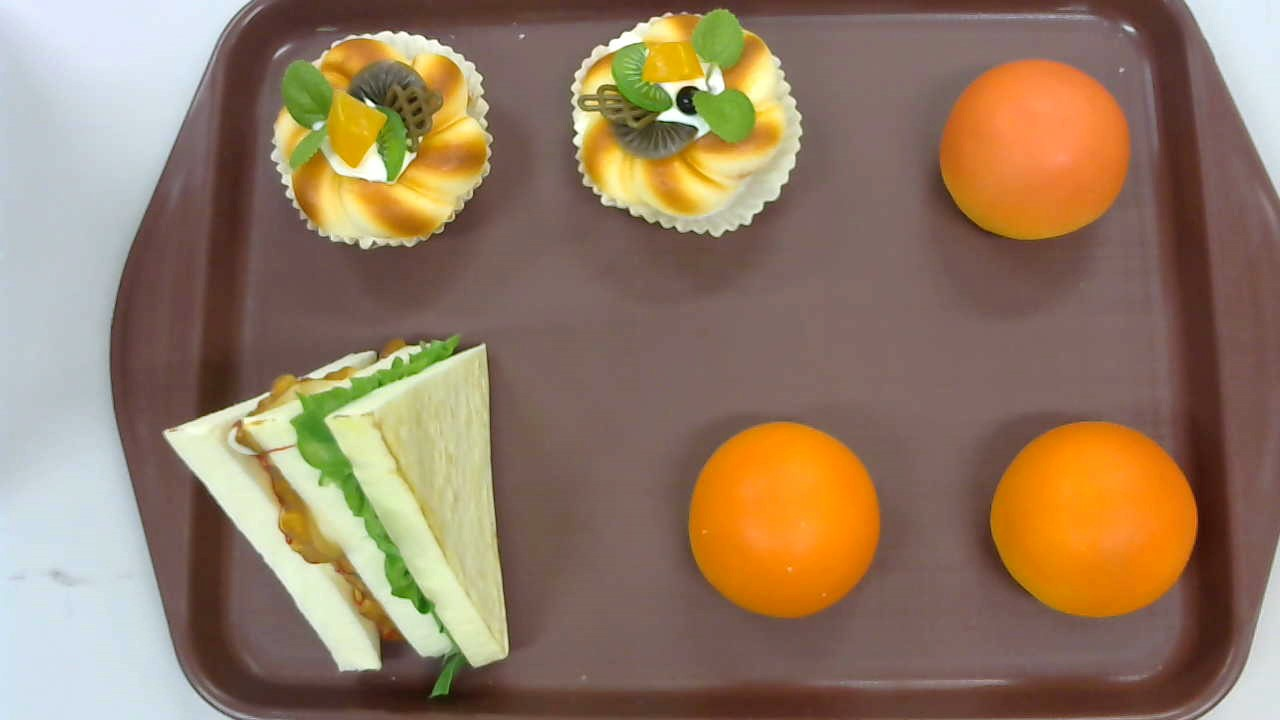bun: (989, 421, 1196, 615), (688, 422, 879, 620), (938, 59, 1130, 240)
fruit tart: (569, 9, 803, 239), (272, 30, 494, 251)
sandwich: (162, 332, 508, 698)
